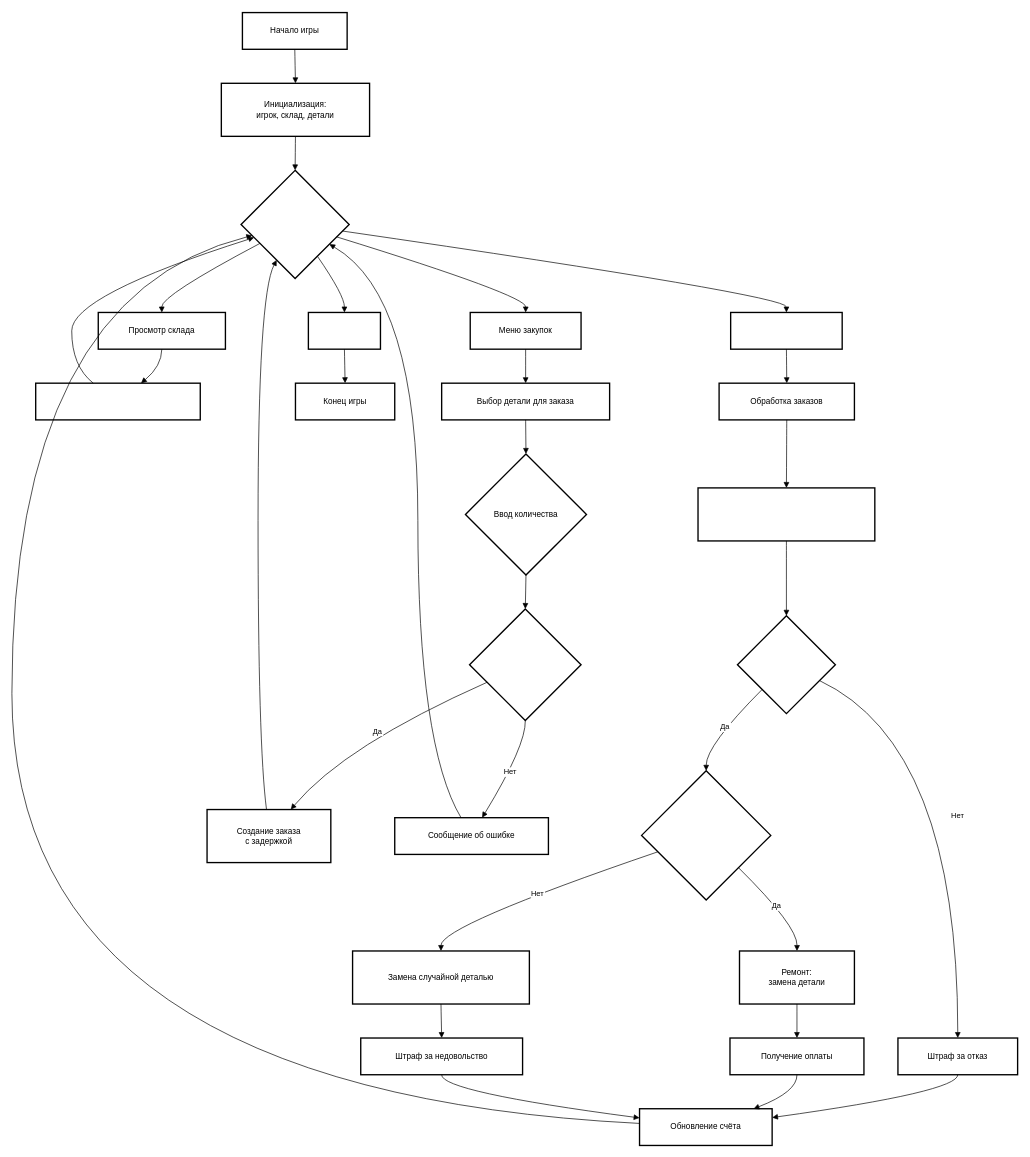
This 1030x1157 diagram has some shape labels left out. The shapes that lost their labels are listed below. From the top down, each one's centre as x and y in pixels, then its label:
point 295,224: Главное меню
point 344,330: Выход
point 786,330: Новый клиент
point 118,401: Вывод состояния склада
point 786,514: Случайная поломка детали
point 525,664: Хватает денег?
point 786,664: Взять заказ?
point 706,835: Деталь на складе?
